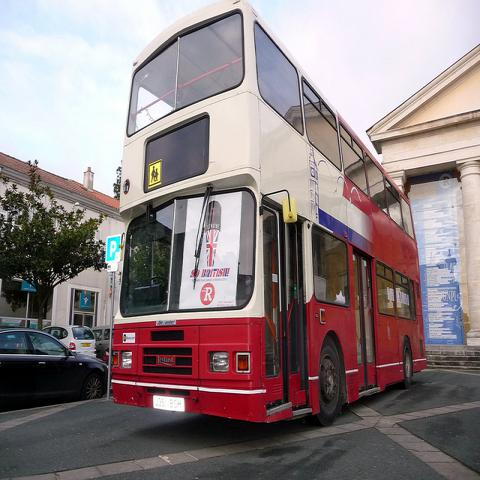bus: (114, 0, 426, 427)
car: (2, 330, 107, 404), (45, 325, 98, 353), (91, 324, 110, 359)
